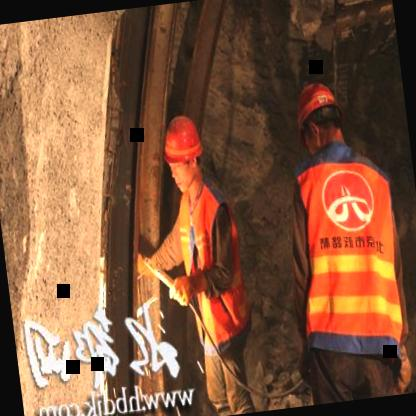helmet: (286, 70, 350, 162), (157, 109, 211, 193)
